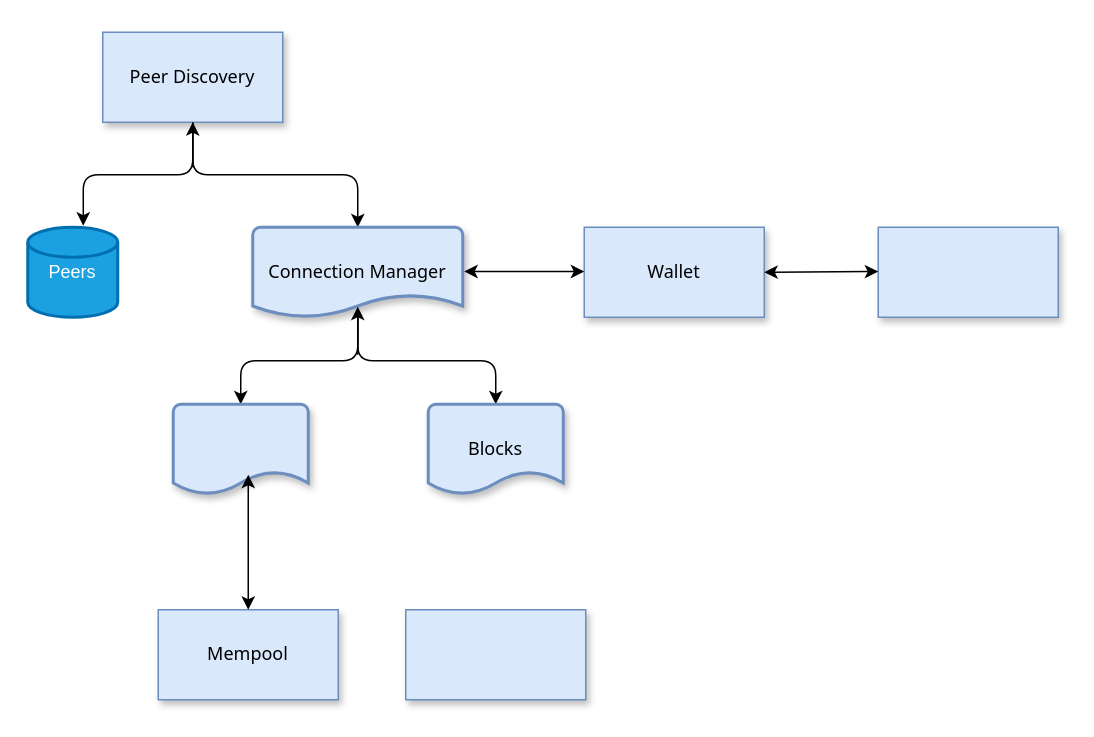
Image size: 1094x737. Some labels were removed from this diagram. Here are the shapes that lost their labels. From the top down, the centre of each, then its label:
At [969,274]: "RPC".
At [241,451]: "Txs".
At [496,656]: "Validatioin Engine".
